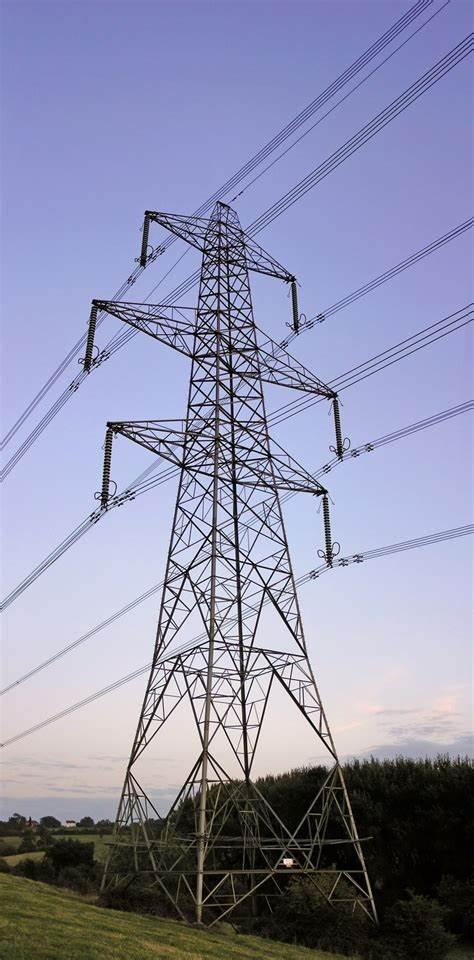power_tower: (82, 196, 384, 933)
